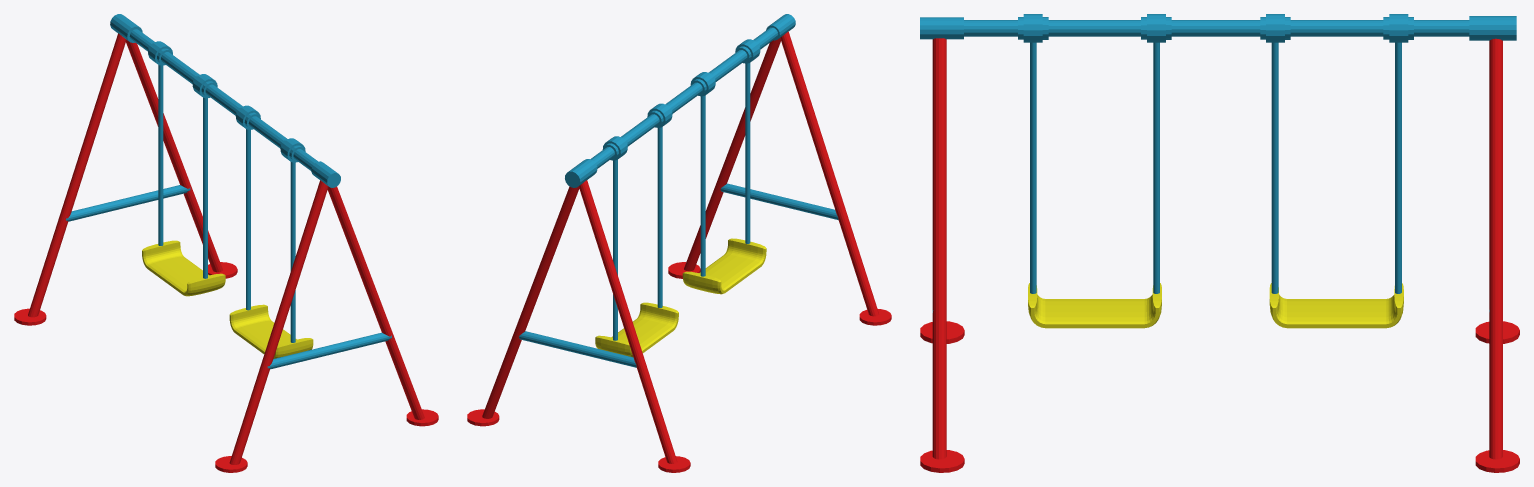
The model's file is swing.fbx.
3 views of the same model, side by side, from view 1: azimuth 30°, elevation 25°; view 2: azimuth 150°, elevation 25°; view 3: azimuth 270°, elevation 25° (orthographic). The views are drawn at different scales.
Visible parts, largest first — view 1: swing; view 2: swing; view 3: swing.
Part boxes in pixels (left/top/right/bottom): swing: left=14, top=14, right=438, bottom=472; swing: left=467, top=14, right=891, bottom=472; swing: left=920, top=14, right=1519, bottom=472.
Size of the model in its own units: 194 by 236 by 334.
